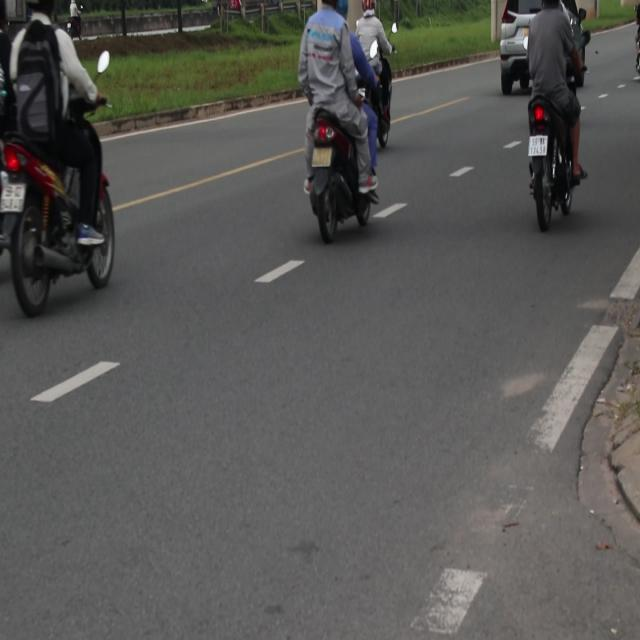car: (499, 1, 592, 95)
motorbike: (6, 134, 128, 312), (298, 108, 374, 245), (518, 101, 594, 231), (346, 61, 411, 140)
